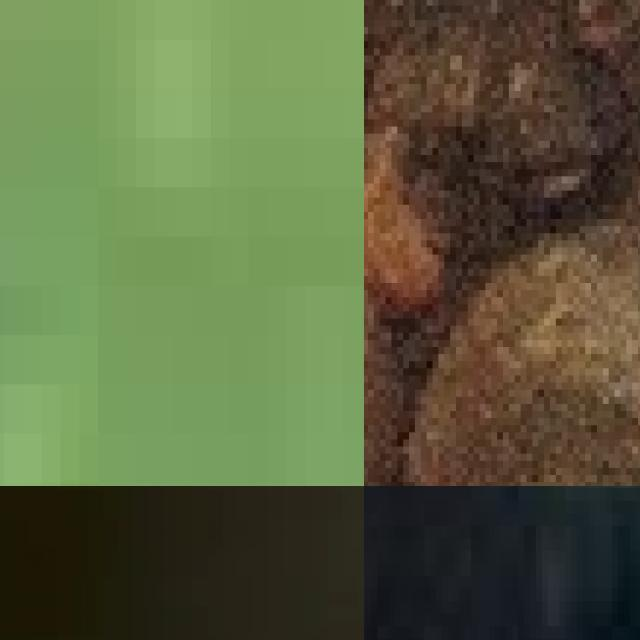fish: (0, 0, 364, 486)
